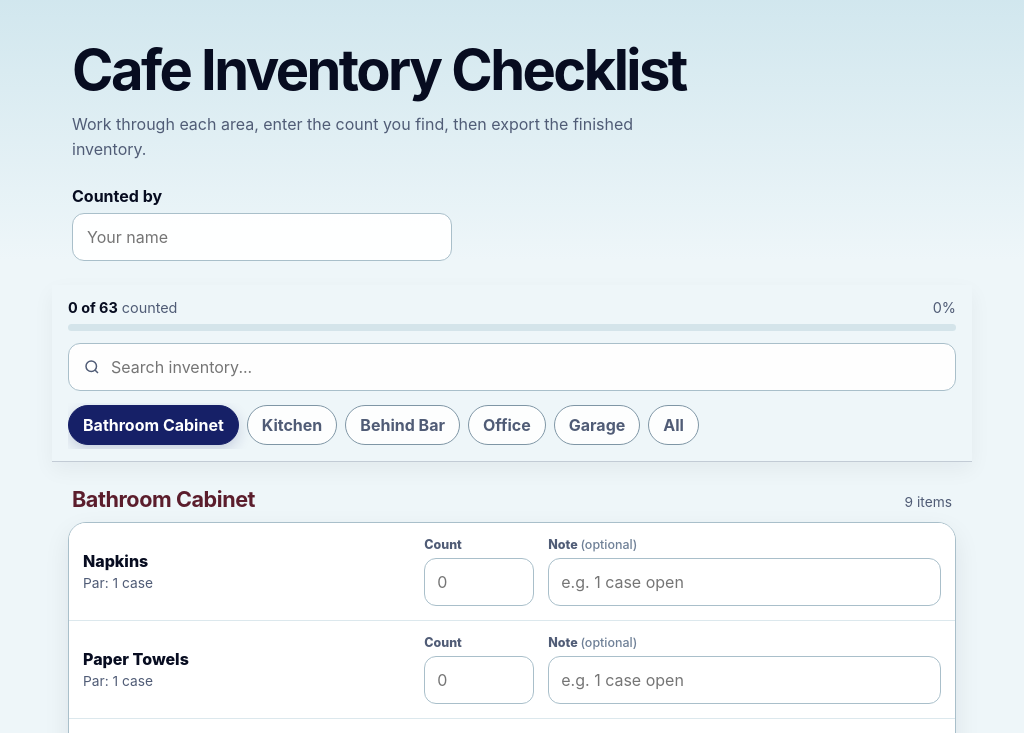
Scenario: App › shows all five sections when All is selected
Click the button "All". click: (674, 425)
box: [648,405,699,445]
(page scrolled)
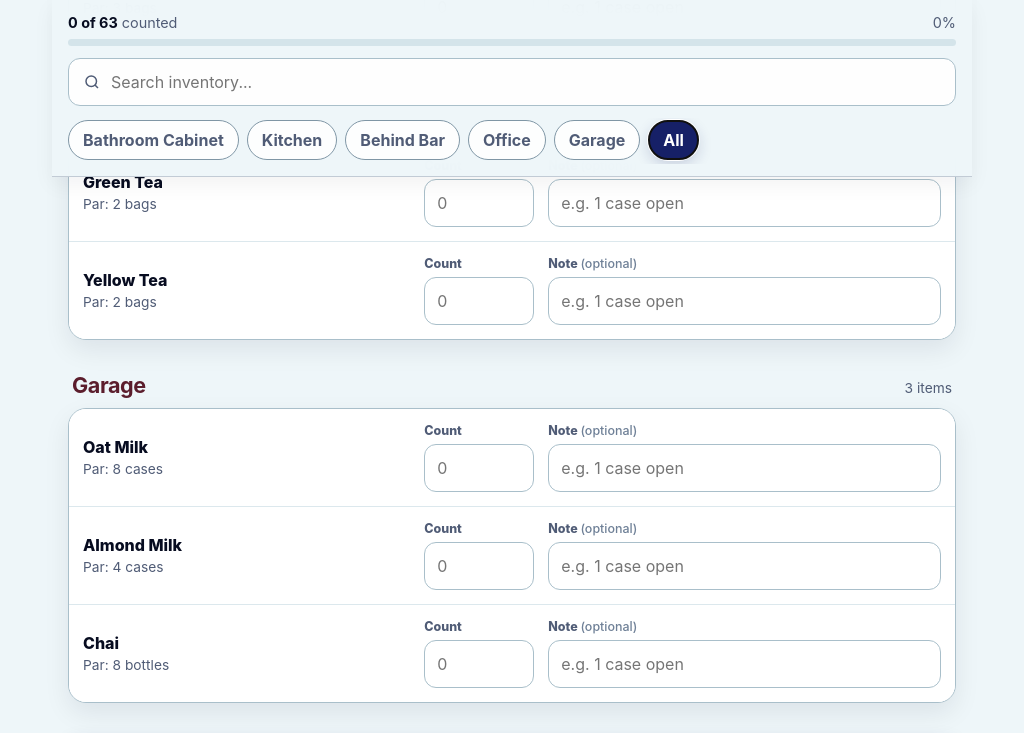
Now the heading "Garage" is shown, box [72,372,146,398]
